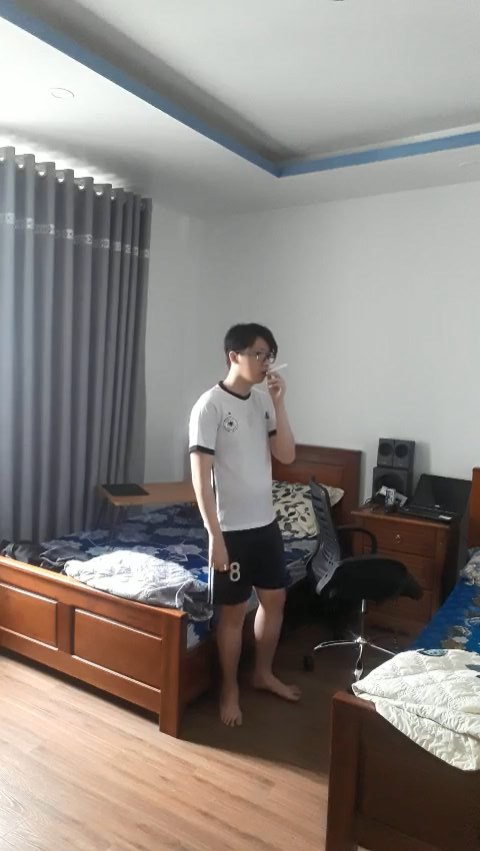cigarette: (267, 364, 288, 375)
person: (178, 317, 310, 743)
